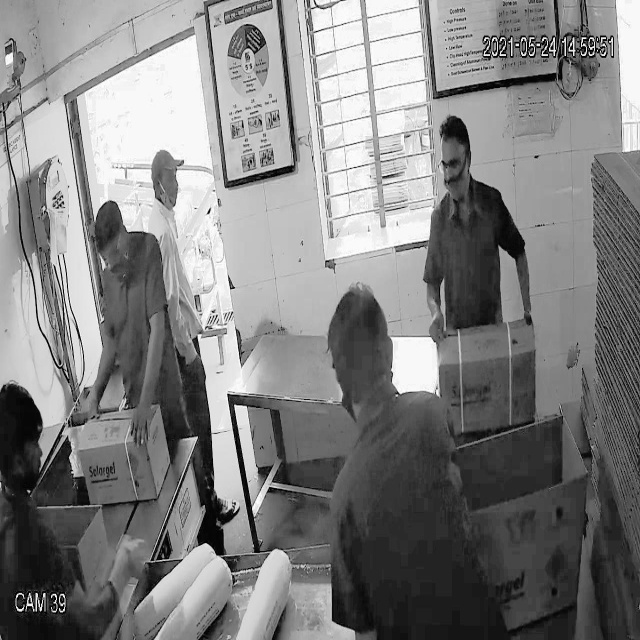Gafas: (435, 149, 470, 178)
